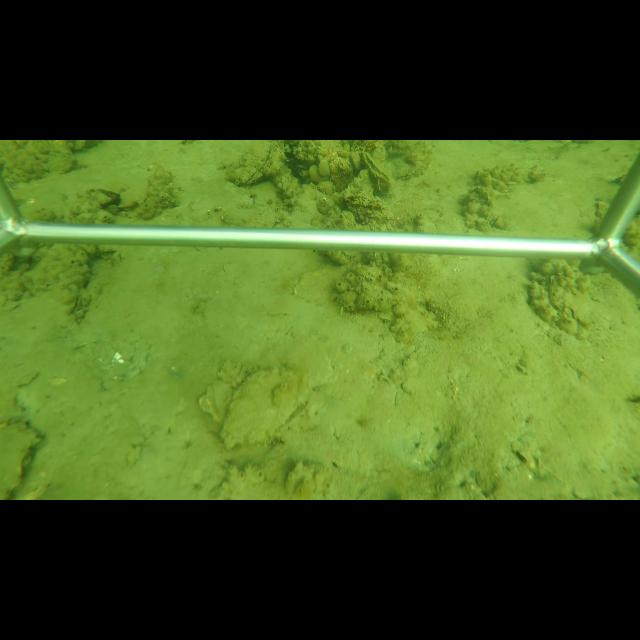Oyster-Closed: (216, 364, 313, 455), (547, 273, 601, 329), (233, 141, 287, 188)
Oyster-Open: (363, 148, 397, 186)
